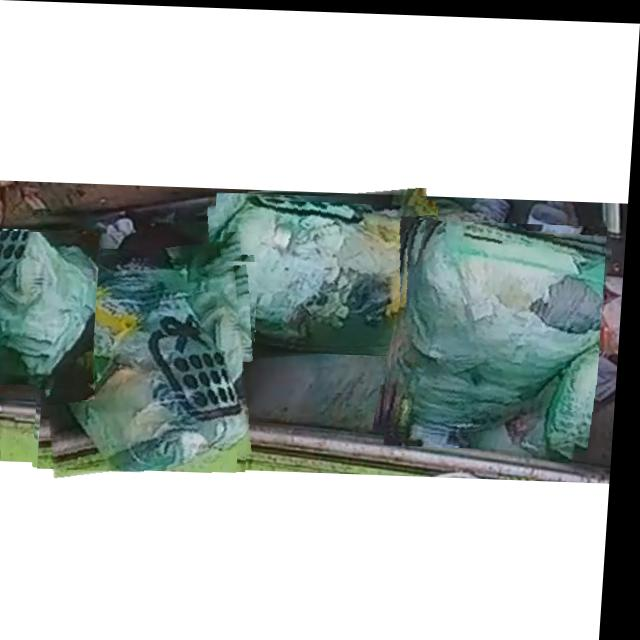general_trashbag: (393, 218, 609, 428), (46, 257, 254, 470), (219, 198, 437, 346), (0, 231, 101, 381)
